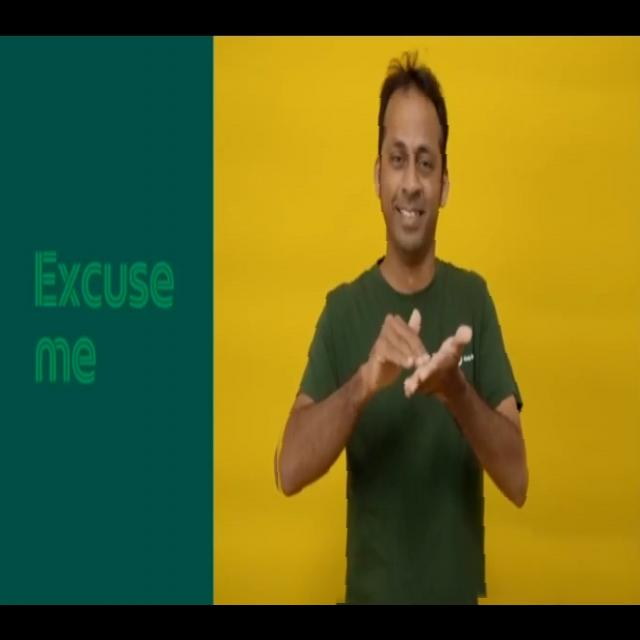ExcuseMe: (268, 49, 530, 604)
